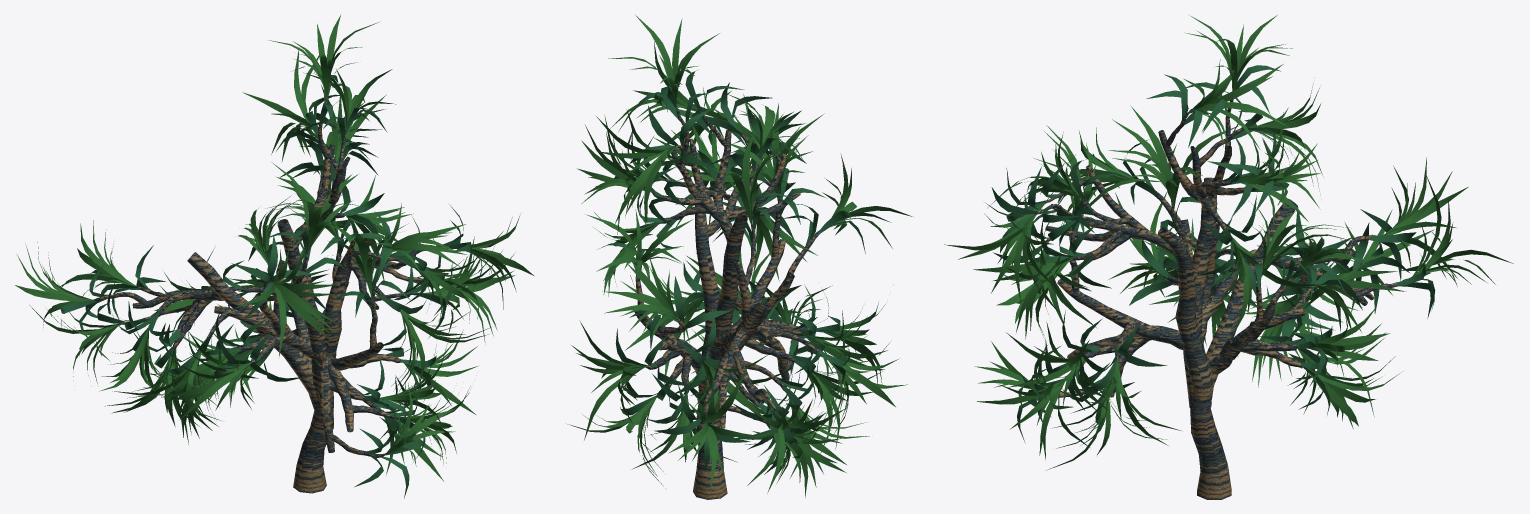
The model's file is Sans+titre.dae.
The picture shows the model from 3 angles, left to right: view 1: azimuth 30°, elevation 25°; view 2: azimuth 150°, elevation 25°; view 3: azimuth 270°, elevation 25°; orthographic projection. The views are drawn at different scales.
Visible parts, largest first — view 1: stemslevel0 (×3), stemslevel1 (×6); view 2: stemslevel1 (×12), stemslevel0 (×3), leaf05 (×2), stemslevel2; view 3: stemslevel0 (×3), stemslevel1 (×6).
Boxes of the visible parts, box(x1,y1,x2,y2) form: stemslevel0 (×3): box(187, 219, 371, 493); stemslevel1 (×6): box(132, 289, 383, 452); stemslevel1 (×12): box(671, 129, 800, 428); stemslevel0 (×3): box(693, 205, 765, 499); leaf05 (×2): box(614, 130, 755, 224); stemslevel2: box(745, 339, 796, 362); stemslevel0 (×3): box(1158, 177, 1297, 499); stemslevel1 (×6): box(1051, 204, 1275, 374).
Size of the model in its own units: 79.82 by 102 by 96.46.
Materials: 4 (2 with a texture image).
